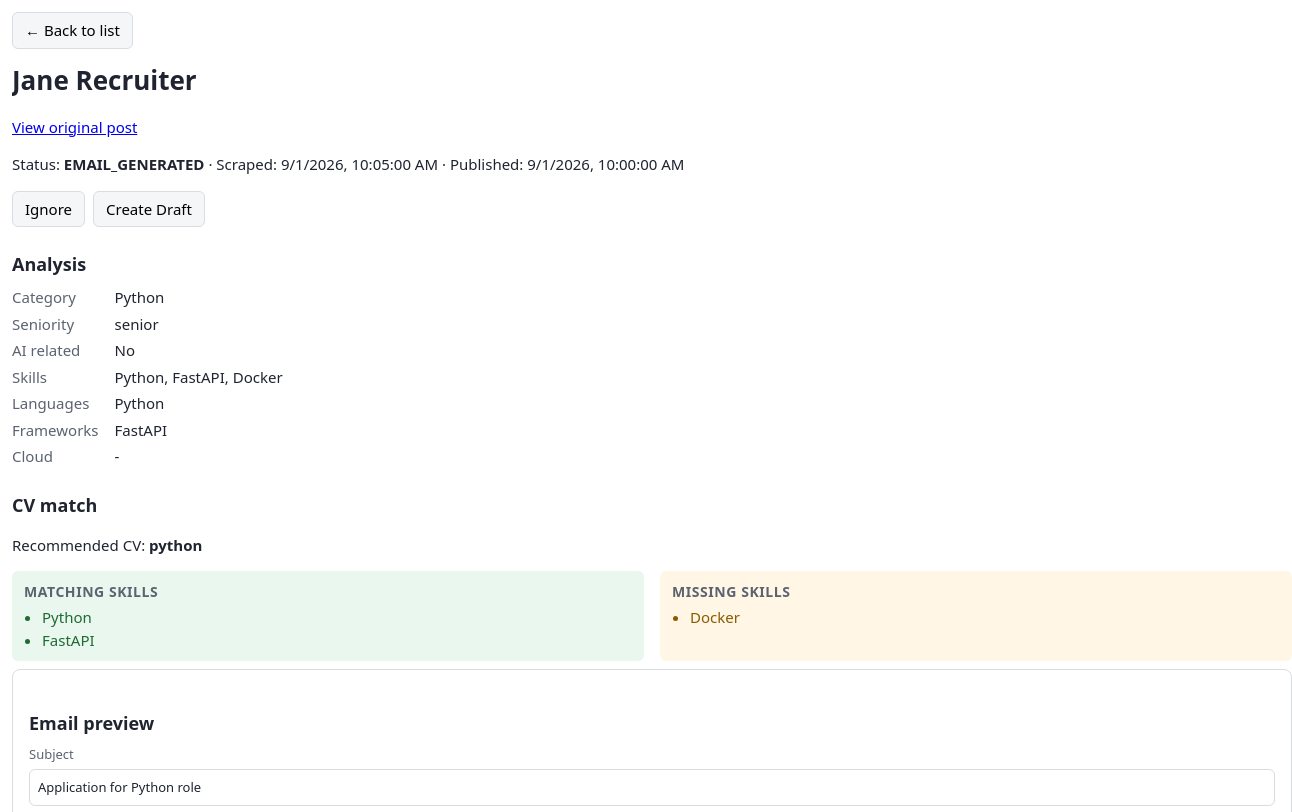
Test: JobDetail › ignores the job via the API, merging the summary into the current detail
Check: the heading "Jane Recruiter" is shown, box top-left (12, 62), bottom-right (197, 98)
Click the button "Ignore". click: (48, 209)
box: top-left (12, 190), bottom-right (85, 227)
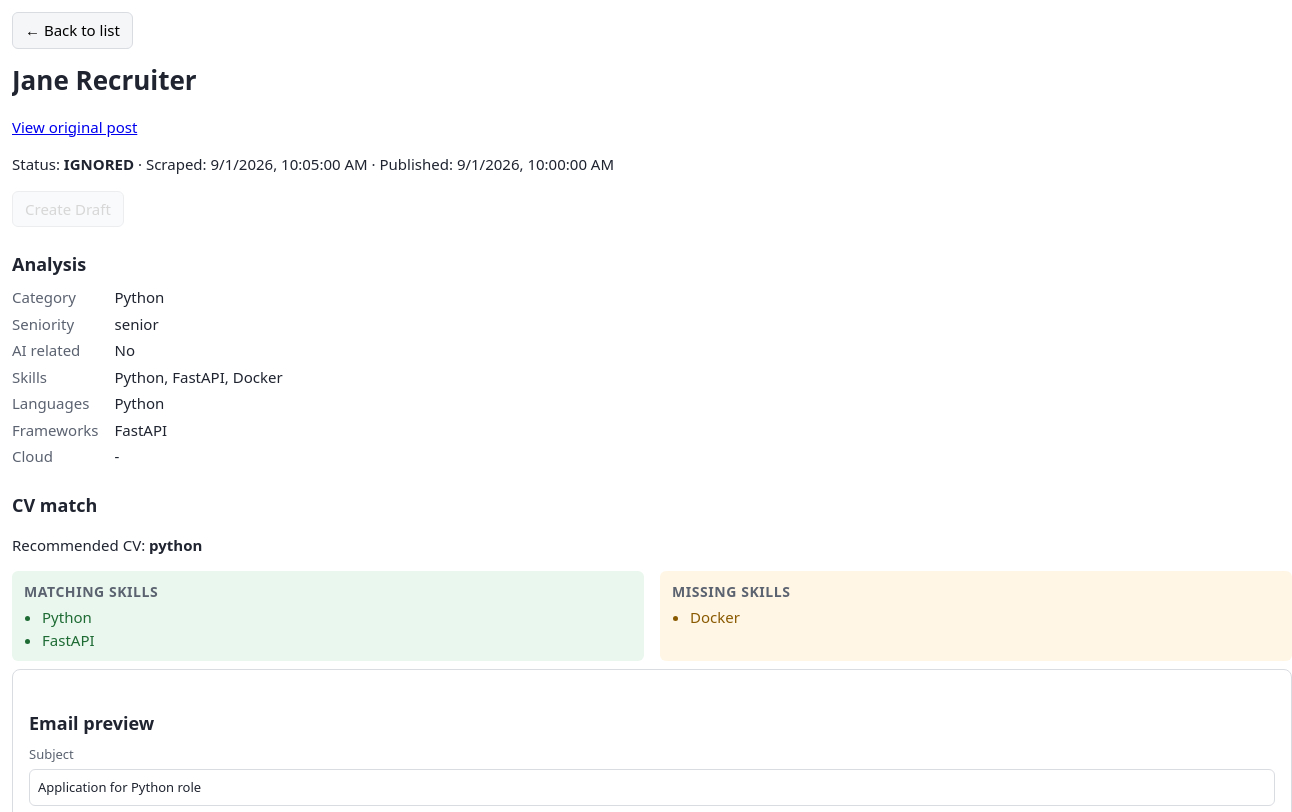
Check: the text "IGNORED" is shown, box top-left (64, 154), bottom-right (134, 174)
